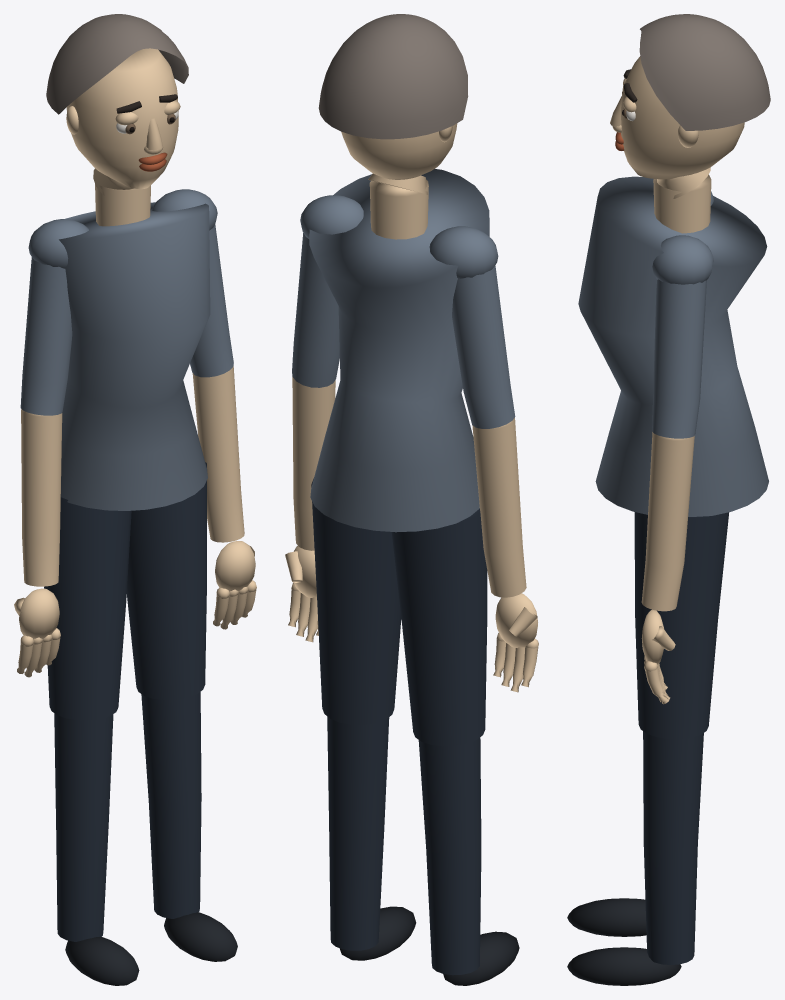
3 renders of one model, left to right at view 1: azimuth 30°, elevation 25°; view 2: azimuth 150°, elevation 25°; view 3: azimuth 270°, elevation 25°, orthographic. The views are drawn at different scales.
Visible parts, largest first — view 1: maher_fig, maher_head; view 2: maher_fig, maher_head; view 3: maher_fig, maher_head.
Part boxes in pixels (left/top/right/bottom): maher_fig: left=14, top=184, right=256, bottom=985; maher_head: left=46, top=14, right=188, bottom=195; maher_fig: left=285, top=169, right=538, bottom=985; maher_head: left=318, top=14, right=468, bottom=194; maher_fig: left=567, top=174, right=768, bottom=985; maher_head: left=610, top=14, right=770, bottom=198.
Size of the model in its own units: 0.4904 by 1.8 by 0.3541.
